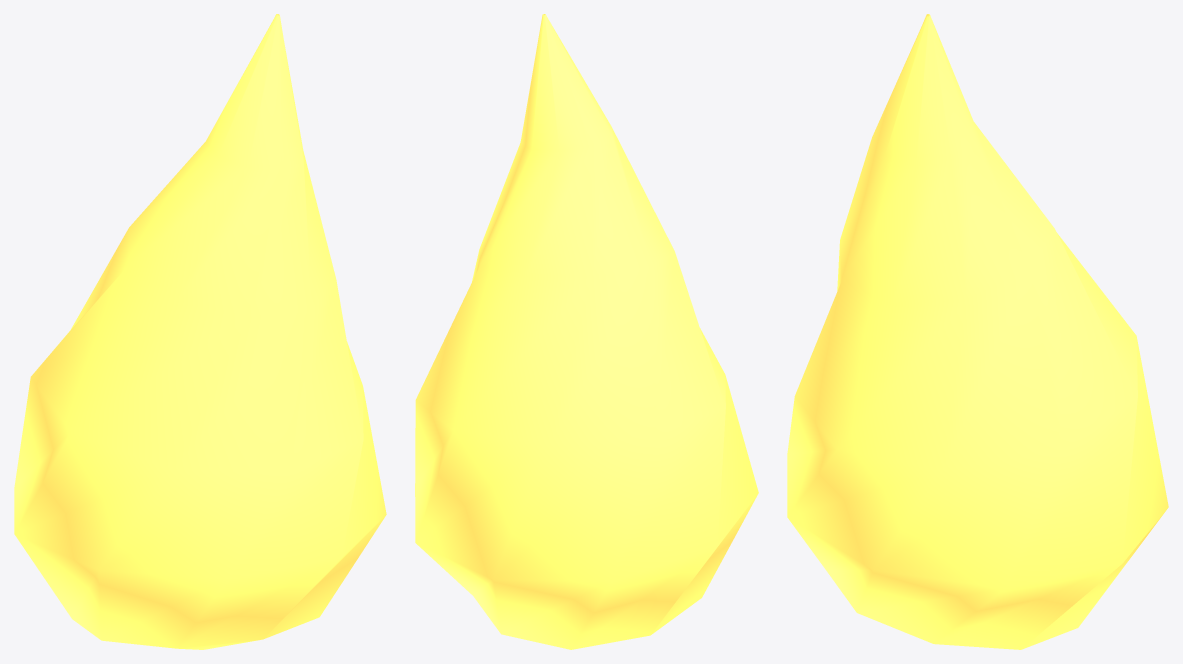
Rendered from flame.glb.
3 renders of one model, left to right at view 1: azimuth 30°, elevation 25°; view 2: azimuth 150°, elevation 25°; view 3: azimuth 270°, elevation 25°, orthographic. The views are drawn at different scales.
Visible parts, largest first — view 1: FlameOuter; view 2: FlameOuter; view 3: FlameOuter.
Part boxes in pixels (left/top/right/bottom): FlameOuter: left=14, top=14, right=386, bottom=649; FlameOuter: left=415, top=14, right=758, bottom=649; FlameOuter: left=787, top=14, right=1168, bottom=649.
Size of the model in its own units: 0.5902 by 1.08 by 0.5809.
